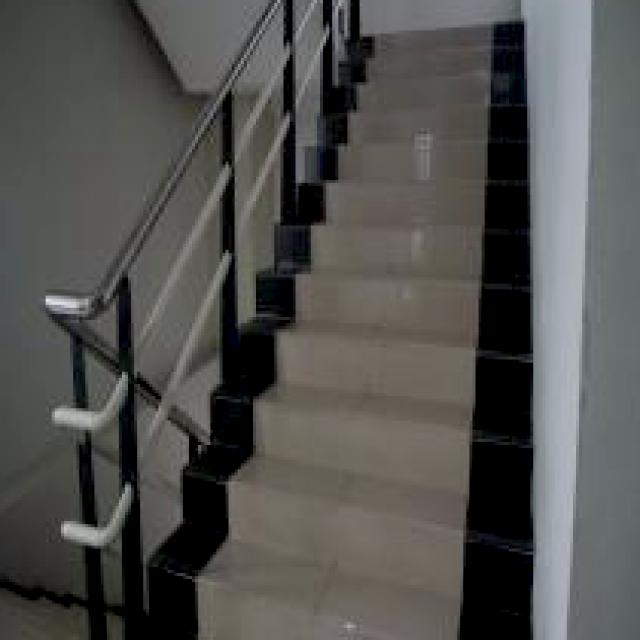upstair: (202, 171, 537, 640)
